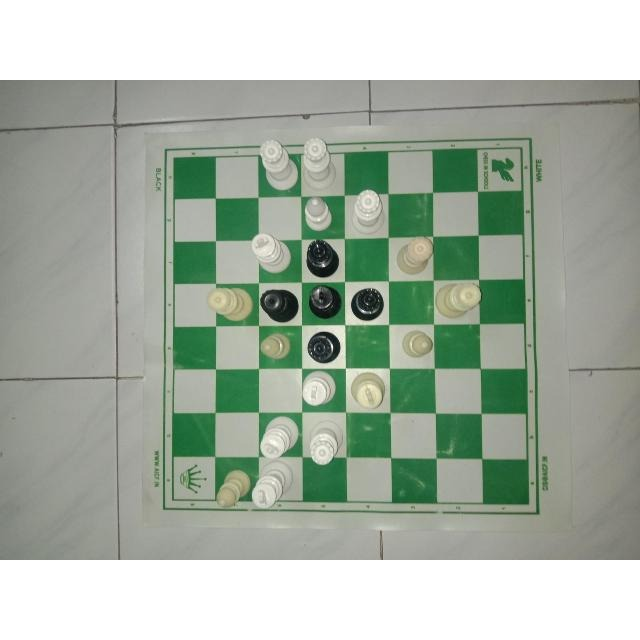black-king: (302, 281, 343, 323)
black-queen: (302, 328, 344, 369), (302, 238, 343, 278), (349, 283, 389, 324), (258, 285, 298, 324)
white-bishop: (214, 464, 252, 508), (255, 329, 297, 365), (301, 194, 337, 234), (397, 326, 437, 362)
white-king: (249, 461, 297, 511), (247, 230, 295, 275), (257, 413, 301, 460), (347, 369, 390, 413), (300, 370, 341, 410)
white-queen: (300, 134, 340, 194), (432, 279, 486, 322), (259, 138, 299, 194), (206, 282, 256, 324), (348, 185, 386, 237), (394, 234, 438, 278), (306, 419, 346, 466)
